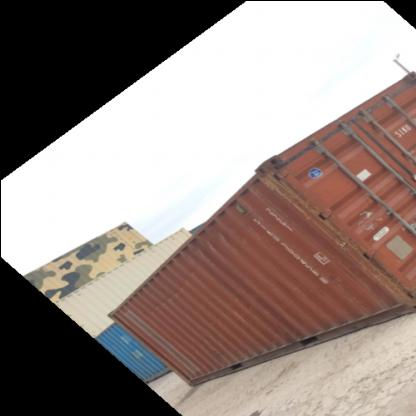Damage: (260, 174, 319, 219), (354, 246, 399, 301), (150, 274, 193, 312), (192, 227, 240, 261), (356, 207, 384, 232)
